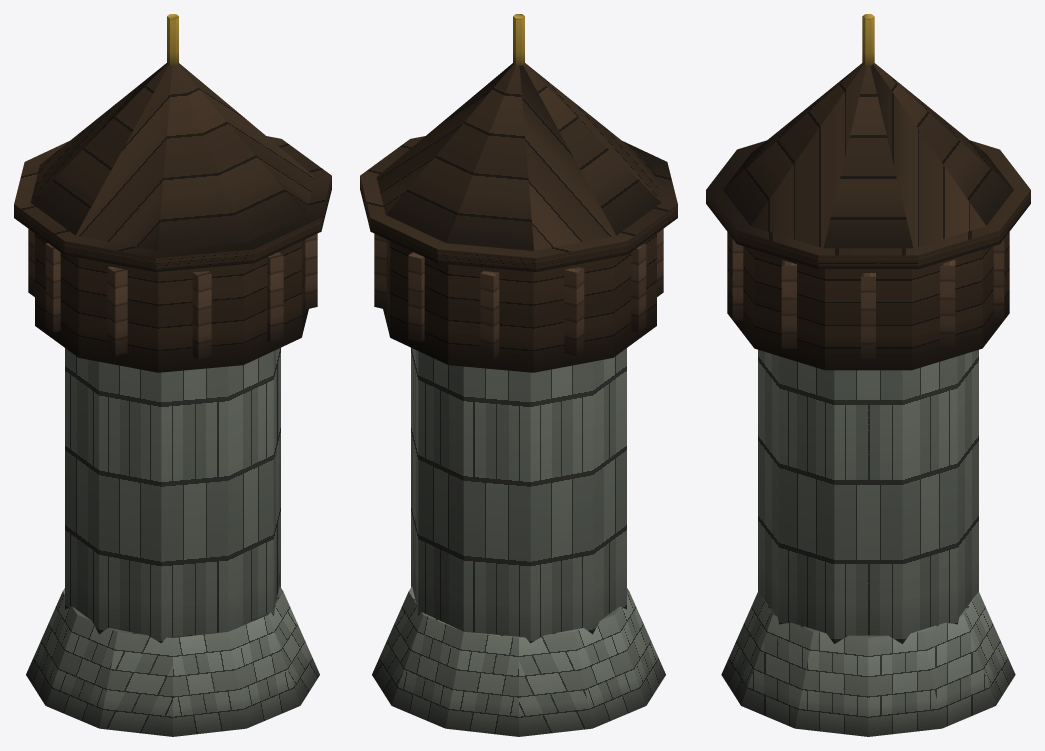
Rendered from watchtower_dark.gltf.
The picture shows the model from 3 angles, left to right: view 1: azimuth 30°, elevation 25°; view 2: azimuth 150°, elevation 25°; view 3: azimuth 270°, elevation 25°; orthographic projection.
Visible parts, largest first — view 1: watchtower_dark; view 2: watchtower_dark; view 3: watchtower_dark.
Boxes of the visible parts, <box> form: watchtower_dark: <box>14,14,331,736</box>; watchtower_dark: <box>360,14,677,736</box>; watchtower_dark: <box>706,14,1030,736</box>.
Size of the model in its own units: 1.01 by 2.37 by 1.06.
1 material, 1 textured.
